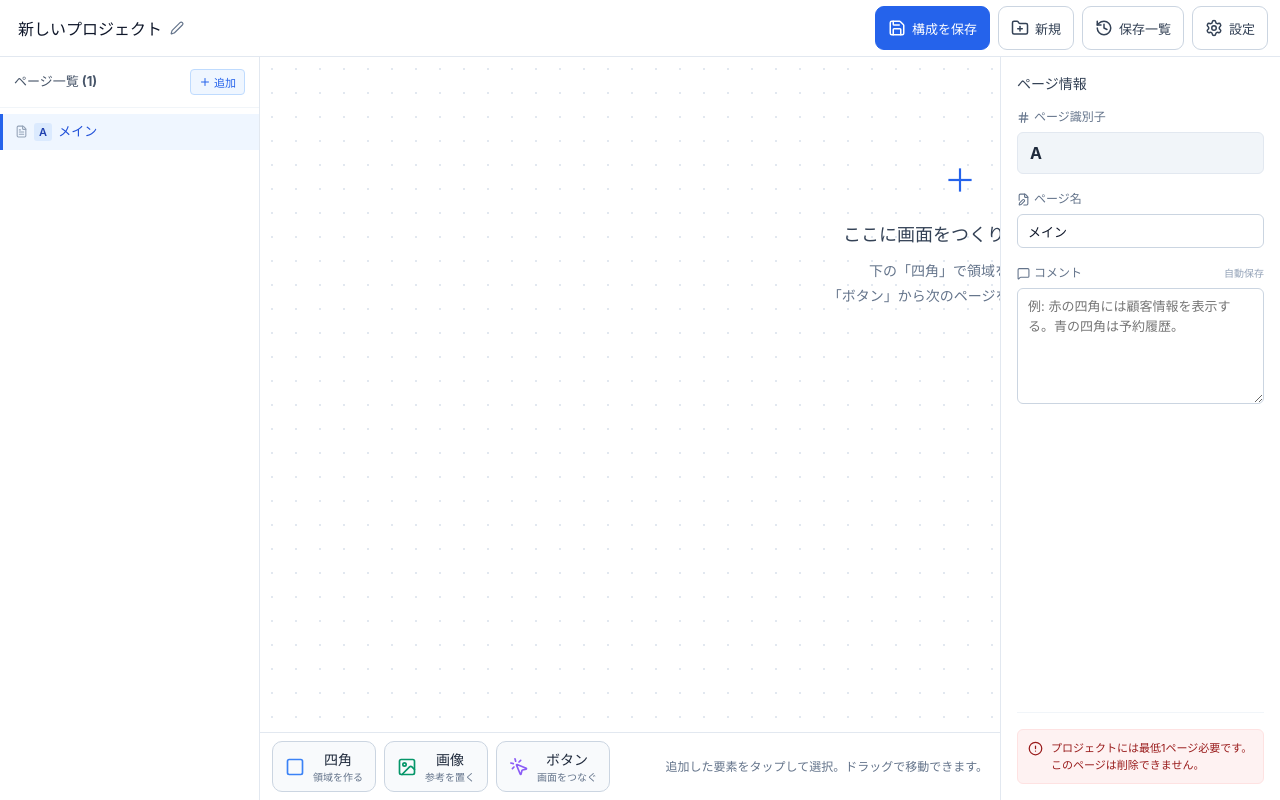
Test: UI Mock App Component Tests › ボタンの追加とボタン名変更: 表示名のみ変更されターゲット等は独立
Click the button "ボタン 画面をつなぐ": coordinates (553, 766) [496, 741, 610, 792]
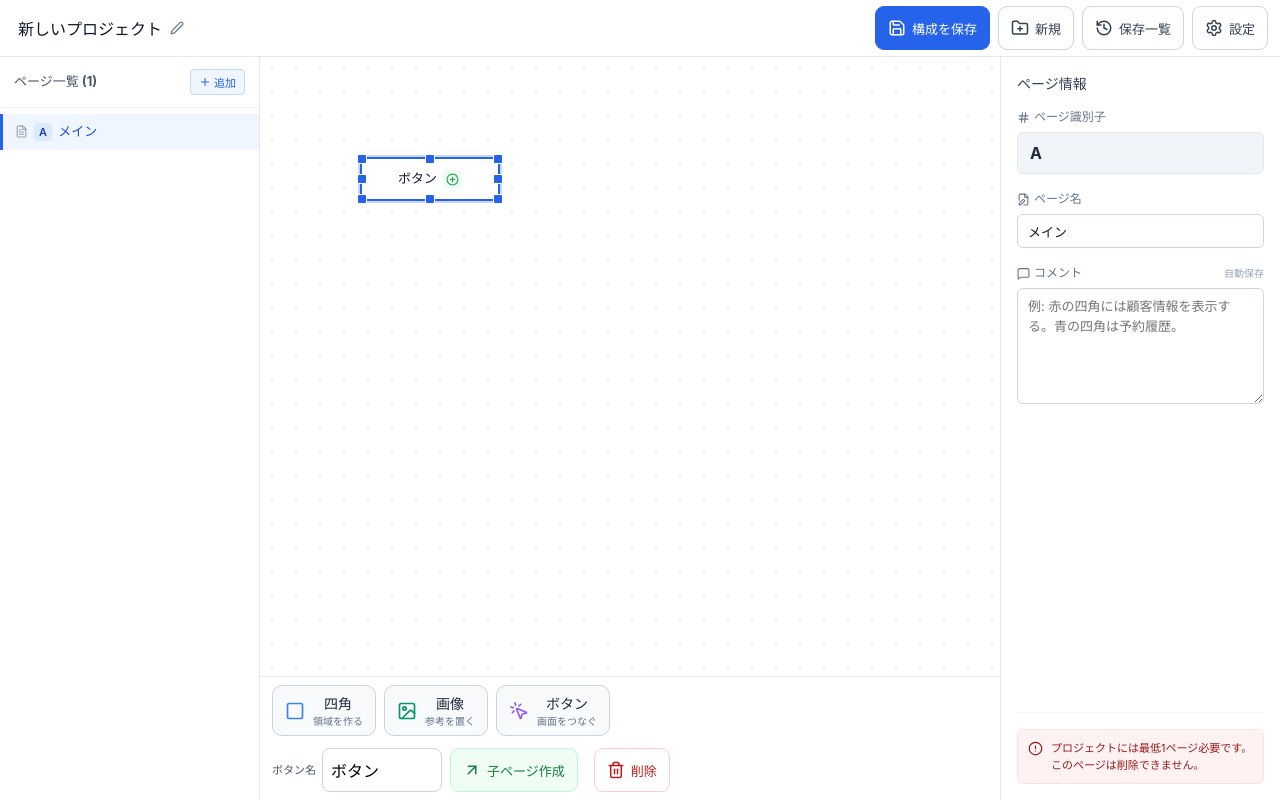
Note: ボタン名入力欄で変更
Replace the text in the field showing "ボタン" with "顧客詳細": coordinates (382, 770) [322, 748, 442, 792]
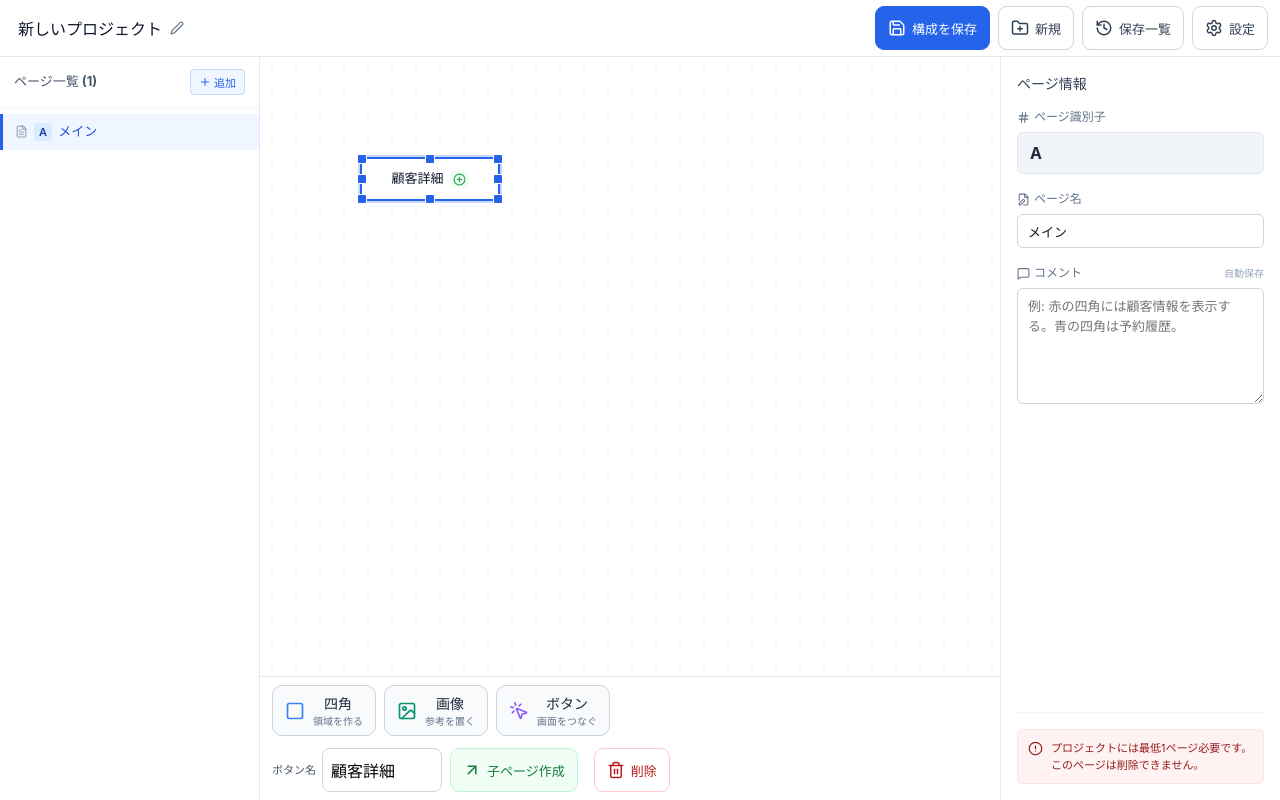
Check: the text "顧客詳細" is shown, box [392, 169, 444, 189]
